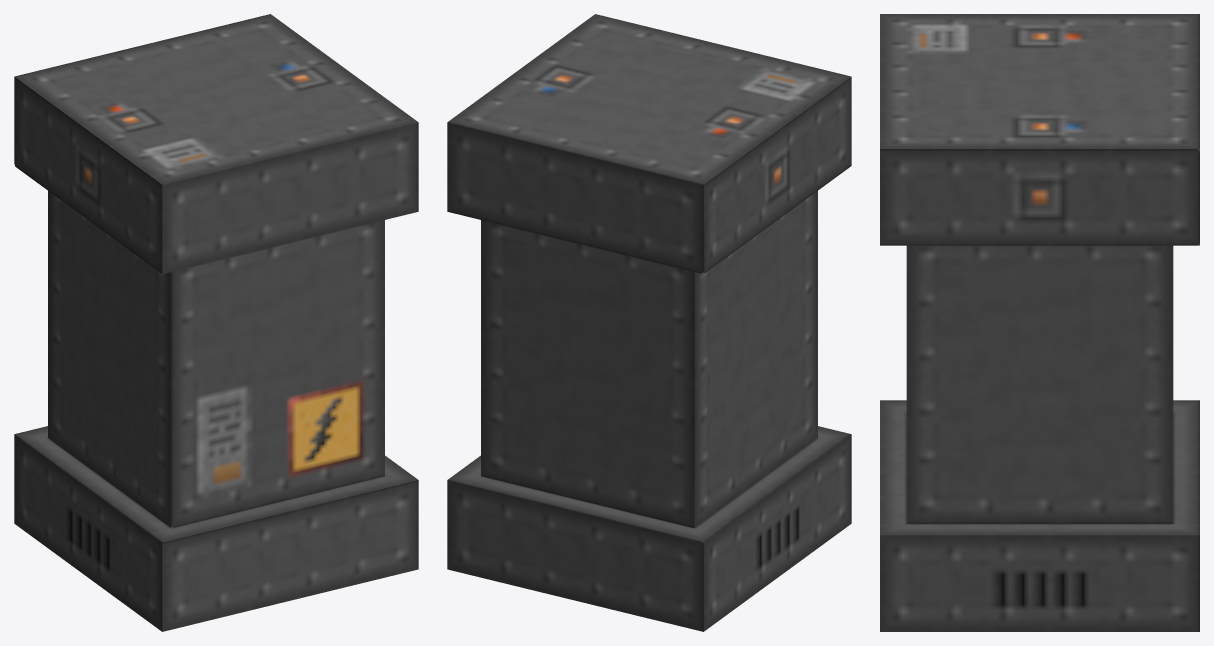
The model's file is large_battery.obj.
3 views of the same model, side by side, from view 1: azimuth 30°, elevation 25°; view 2: azimuth 150°, elevation 25°; view 3: azimuth 270°, elevation 25° (orthographic). The views are drawn at different scales.
Parts seen in each view (by area): view 1: cube; view 2: cube; view 3: cube.
Part boxes in pixels (box(x1,y1,x2,y2)): cube: box(14, 14, 418, 631); cube: box(447, 14, 851, 631); cube: box(880, 14, 1199, 631).
Size of the model in its own units: 3 by 5 by 3.
1 material, 1 textured.
